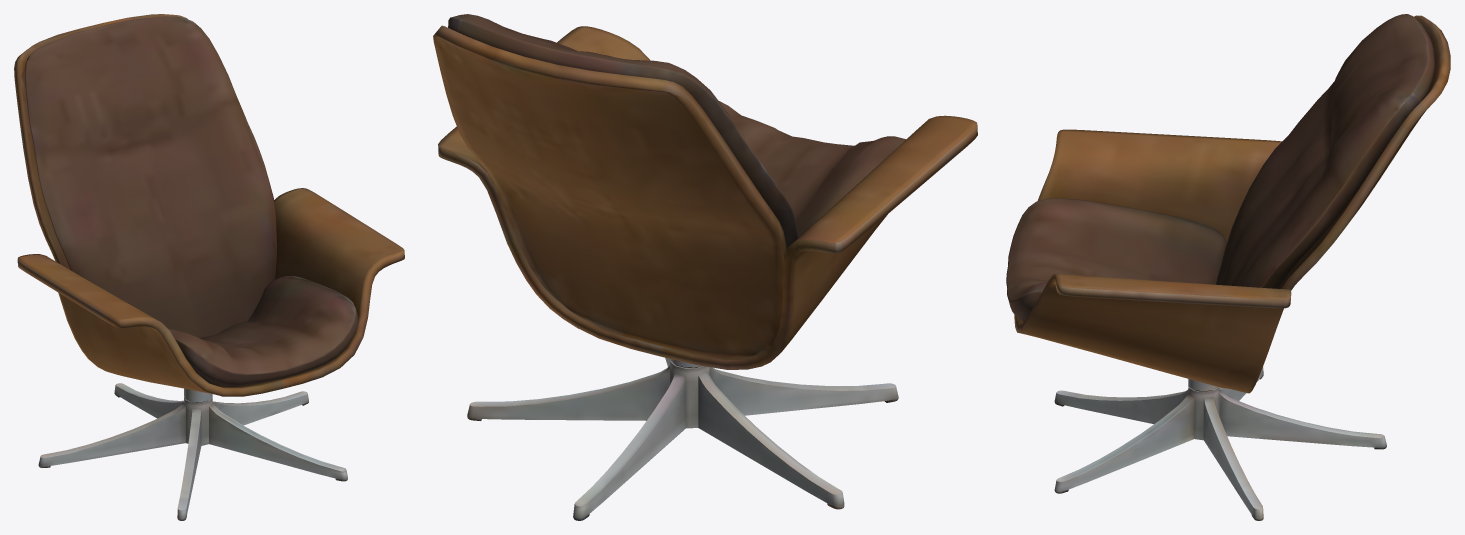
Rendered from mid_century_lounge_chair.glb.
The picture shows the model from 3 angles, left to right: view 1: azimuth 30°, elevation 25°; view 2: azimuth 150°, elevation 25°; view 3: azimuth 270°, elevation 25°; orthographic projection. The views are drawn at different scales.
Visible parts, largest first — view 1: mid_century_lounge_chair; view 2: mid_century_lounge_chair; view 3: mid_century_lounge_chair.
Boxes of the visible parts, x1,y1,x2,y2 form: mid_century_lounge_chair: [14, 14, 404, 520]; mid_century_lounge_chair: [433, 14, 977, 520]; mid_century_lounge_chair: [1006, 14, 1450, 520].
Bounding box in the file's own units: 1.01 × 1.17 × 1.19.
Materials: 1 (1 with a texture image).
